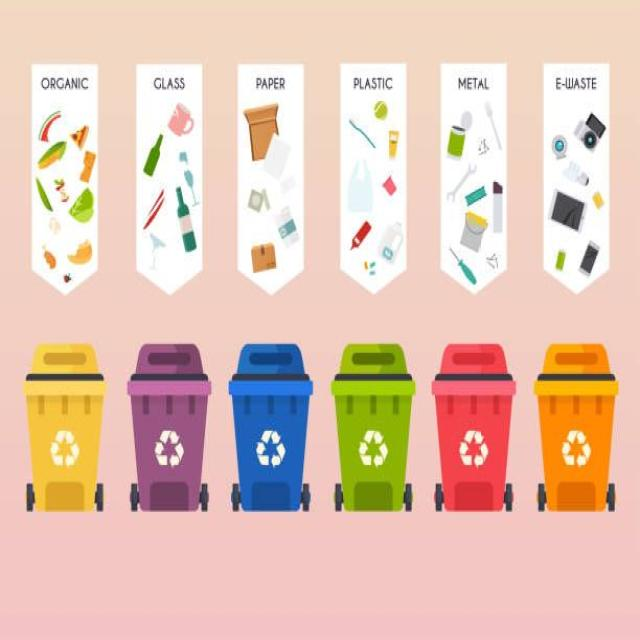Kertas: (20, 28, 195, 239)
